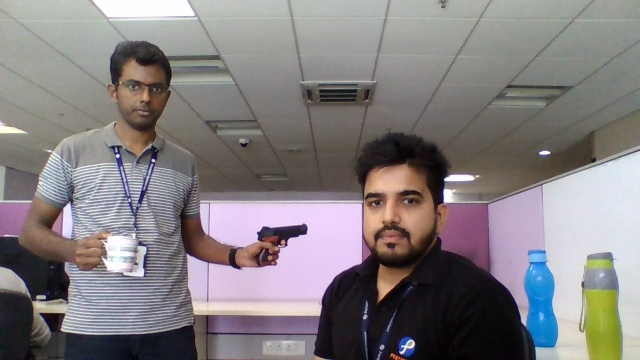gun: (257, 221, 308, 246)
